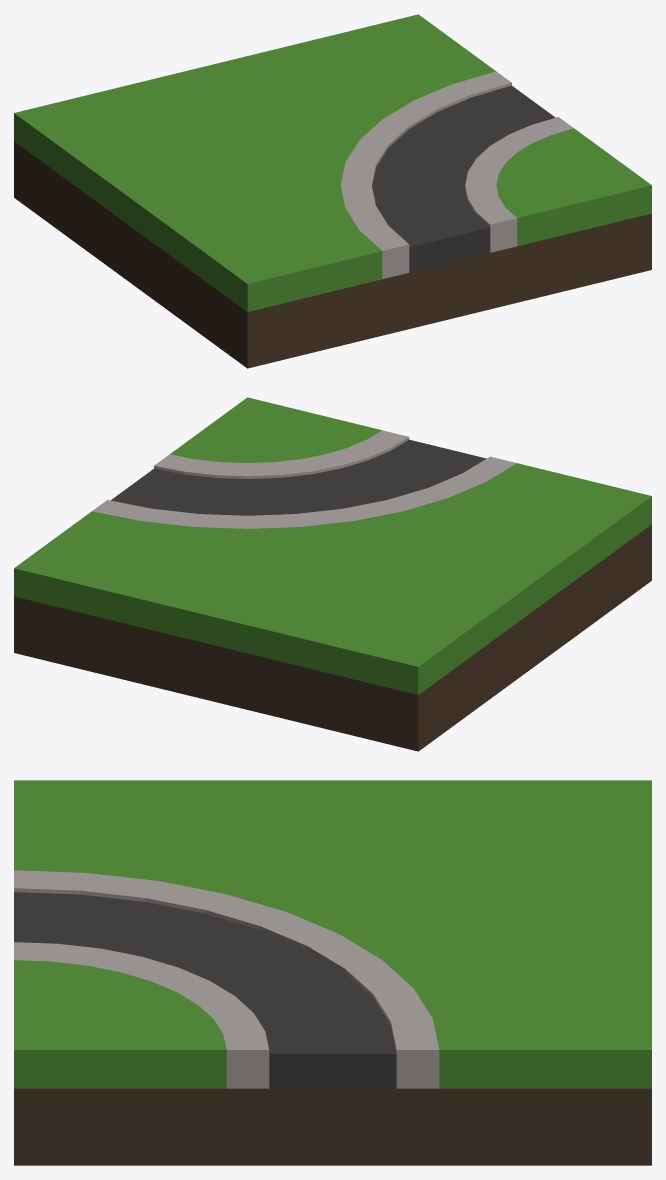
Rendered from tiles_tile-road-curve.fbx.
The picture shows the model from 3 angles, top to bottom: view 1: azimuth 30°, elevation 25°; view 2: azimuth 150°, elevation 25°; view 3: azimuth 270°, elevation 25°; orthographic projection. The views are drawn at different scales.
Parts seen in each view (by area): view 1: tiles_tile_road_curve; view 2: tiles_tile_road_curve; view 3: tiles_tile_road_curve.
Boxes of the visible parts, x1=… form: tiles_tile_road_curve: x1=14, y1=14, x2=651, y2=368; tiles_tile_road_curve: x1=14, y1=397, x2=651, y2=751; tiles_tile_road_curve: x1=14, y1=780, x2=651, y2=1165.
Size of the model in its own units: 200 by 40 by 200.
